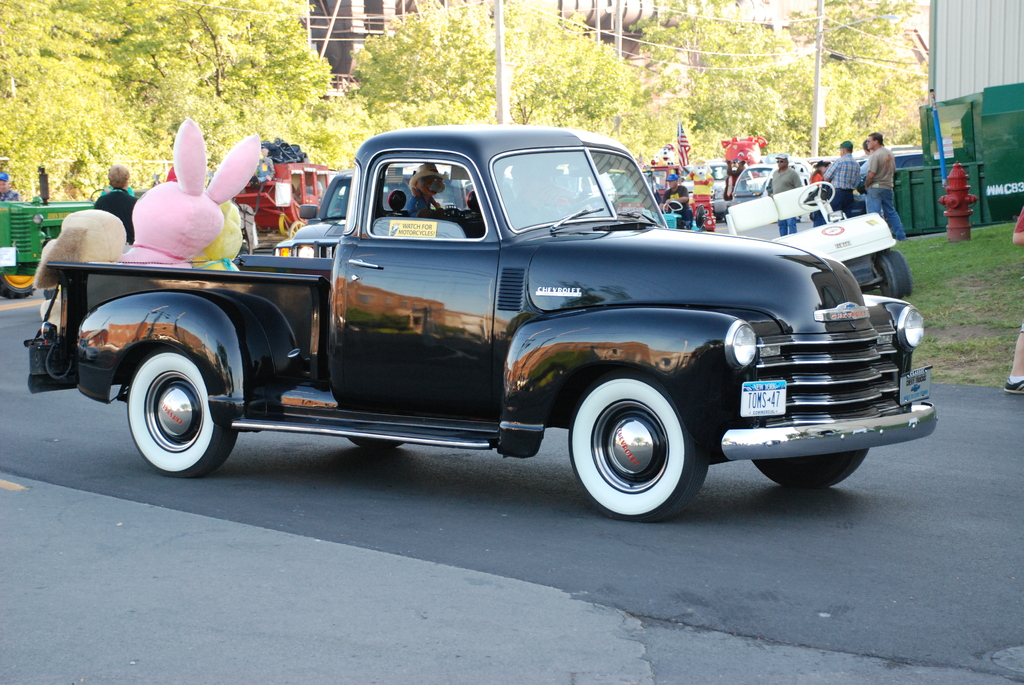Truck: (24, 124, 938, 523), (725, 180, 912, 299)
